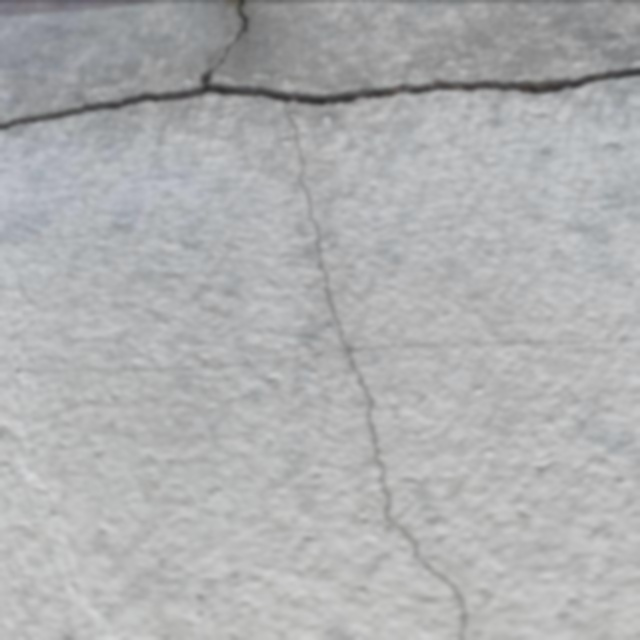SurfaceCrack: (251, 2, 517, 639)
